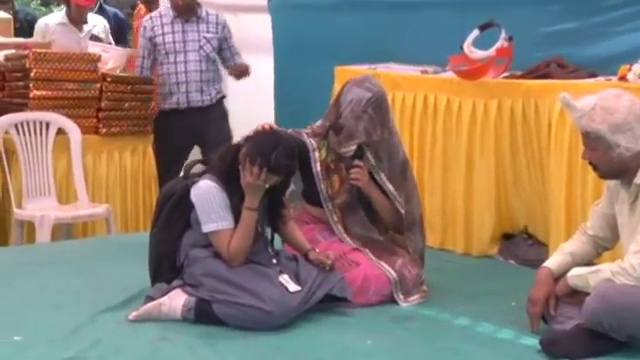helmet: (87, 41, 132, 73)
helmet_off: (563, 90, 629, 183), (222, 128, 306, 196), (332, 74, 392, 154)
person: (125, 128, 337, 317), (274, 81, 425, 295), (525, 78, 640, 358), (134, 0, 251, 211), (32, 0, 109, 47)
